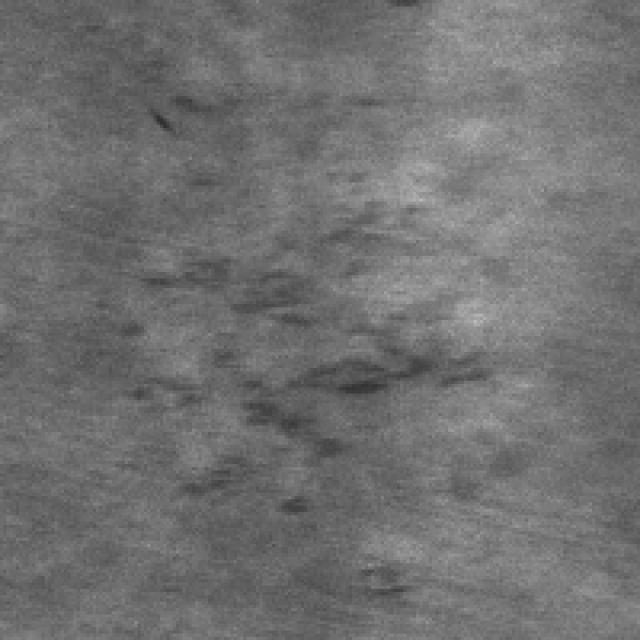rolled-in_scale: (150, 211, 487, 506), (154, 54, 394, 182)
